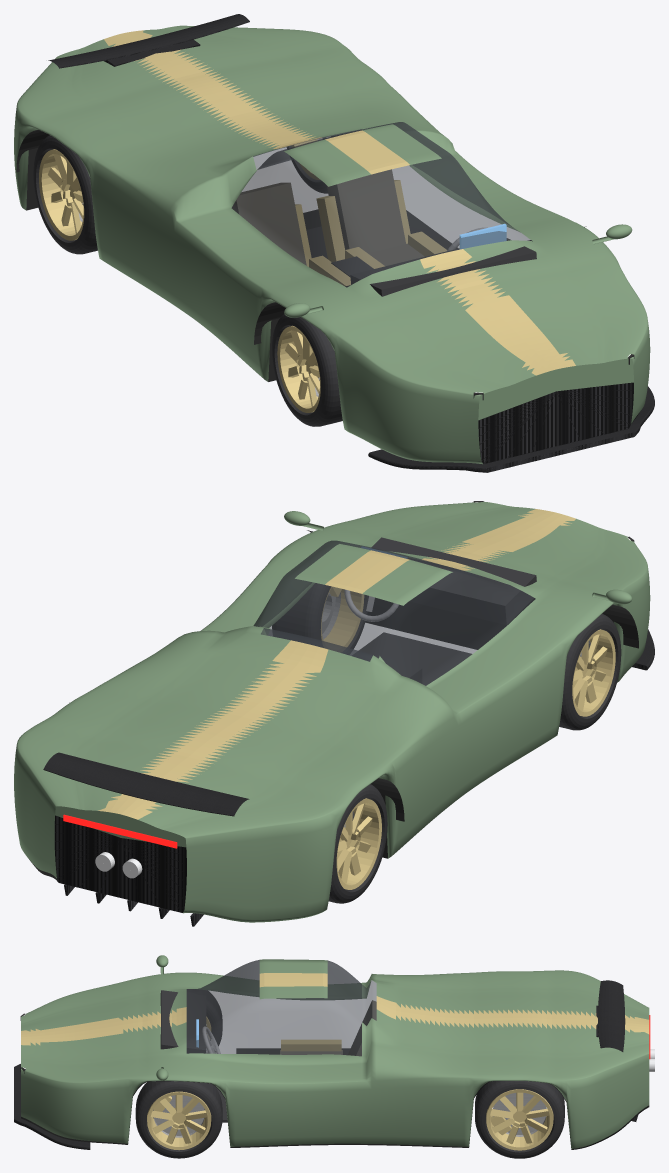
The model's file is lamborghini-sian-fkp-37.glb.
3 renders of one model, top to bottom at view 1: azimuth 30°, elevation 25°; view 2: azimuth 150°, elevation 25°; view 3: azimuth 270°, elevation 25°, orthographic. The views are drawn at different scales.
Visible parts, largest first — view 1: Body_PrimaryPaint, Glass_Windows, Carbon_Exterior, Body_SecondaryPaint, Interior_Seats, Interior_SeatBolsters, Tire_FR, Rim_RR, Rim_FR, Tire_RR, Interior_Dashboard, WheelWells (+2 smaller); view 2: Body_PrimaryPaint, Glass_Windows, Carbon_Exterior, Body_SecondaryPaint, Interior_Dashboard, Underbody, Rim_RR, Rim_FR, Interior_Tub, Tire_FR, Tire_FL, Tire_RR (+4 smaller); view 3: Body_PrimaryPaint, Glass_Windows, Body_SecondaryPaint, Tire_FL, Carbon_Exterior, Tire_RL, Rim_RL, Rim_FL, Interior_Dashboard, Underbody, Interior_SeatBolsters, Interior_Seats (+5 smaller).
Part boxes in pixels (<box>): Body_PrimaryPaint: <box>14,25,650,464</box>; Glass_Windows: <box>232,122,532,287</box>; Carbon_Exterior: <box>48,14,654,472</box>; Body_SecondaryPaint: <box>104,30,575,375</box>; Interior_Seats: <box>232,169,424,265</box>; Interior_SeatBolsters: <box>295,180,446,286</box>; Tire_FR: <box>272,314,342,426</box>; Rim_RR: <box>39,149,84,240</box>; Rim_FR: <box>277,325,320,412</box>; Tire_RR: <box>33,135,97,254</box>; Interior_Dashboard: <box>350,238,536,296</box>; WheelWells: <box>16,129,586,344</box>; Body_PrimaryPaint: <box>14,501,650,922</box>; Glass_Windows: <box>253,540,535,685</box>; Carbon_Exterior: <box>43,629,654,926</box>; Body_SecondaryPaint: <box>98,509,575,819</box>; Interior_Dashboard: <box>371,537,536,624</box>; Underbody: <box>29,597,613,882</box>; Rim_RR: <box>336,798,381,889</box>; Rim_FR: <box>572,629,615,716</box>; Interior_Tub: <box>358,632,471,685</box>; Tire_FR: <box>559,613,621,730</box>; Tire_FL: <box>272,583,368,649</box>; Tire_RR: <box>328,784,387,903</box>; Body_PrimaryPaint: <box>21,955,649,1148</box>; Glass_Windows: <box>186,960,376,1056</box>; Body_SecondaryPaint: <box>21,973,649,1045</box>; Tire_FL: <box>135,1081,222,1158</box>; Carbon_Exterior: <box>14,980,638,1149</box>; Tire_RL: <box>475,1081,564,1158</box>; Rim_RL: <box>486,1089,553,1150</box>; Rim_FL: <box>147,1091,211,1150</box>; Interior_Dashboard: <box>160,990,206,1053</box>; Underbody: <box>21,1081,649,1149</box>; Interior_SeatBolsters: <box>281,1039,341,1051</box>; Interior_Seats: <box>280,1000,376,1056</box>.
Size of the model in its own units: 2.29 by 1.13 by 5.08.
Materials: 17 (2 with a texture image).
